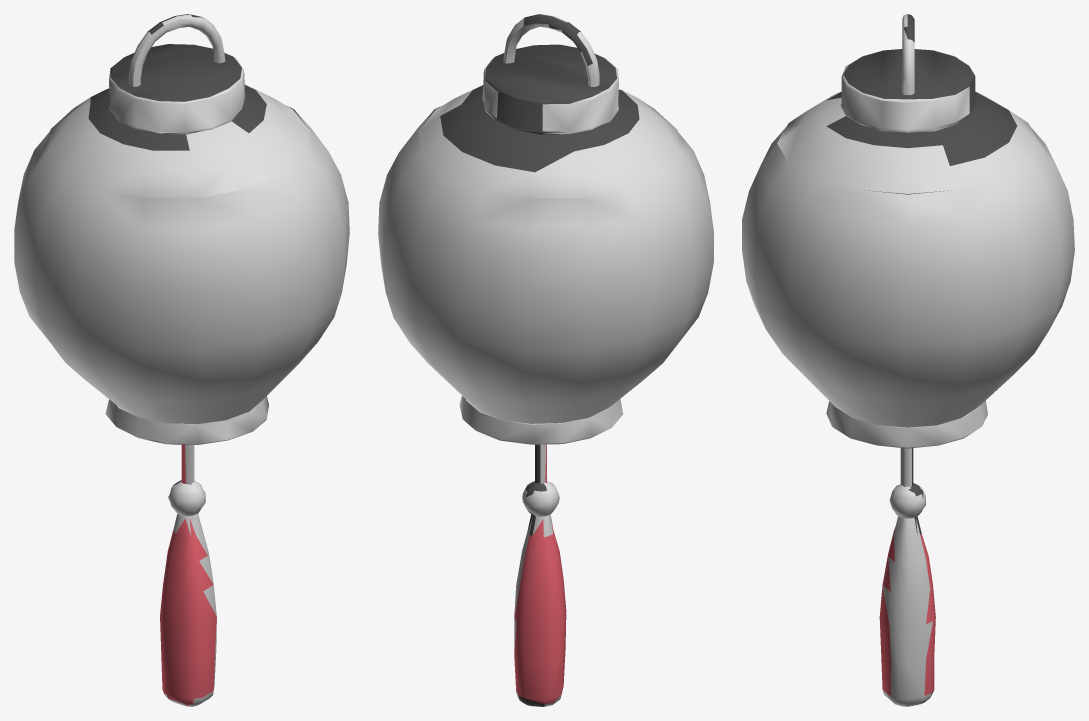
The model's file is Lantern.glb.
3 renders of one model, left to right at view 1: azimuth 30°, elevation 25°; view 2: azimuth 150°, elevation 25°; view 3: azimuth 270°, elevation 25°, orthographic.
Visible parts, largest first — view 1: Lantern; view 2: Lantern; view 3: Lantern.
Boxes of the visible parts, x1,y1,x2,y2 form: Lantern: (14,14,349,706); Lantern: (378,14,713,706); Lantern: (742,14,1074,706).
Size of the model in its own units: 0.5791 by 1.3 by 0.5791.
